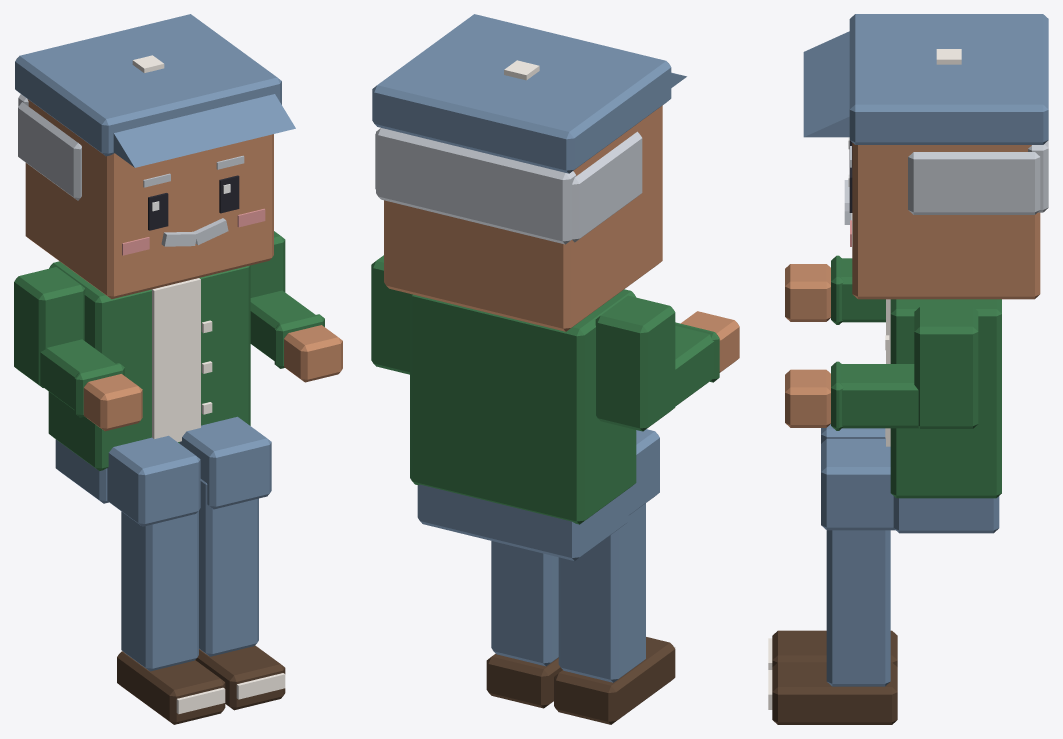
Rendered from CatCafe_NPC_Customer_K_Sit.glb.
The picture shows the model from 3 angles, left to right: view 1: azimuth 30°, elevation 25°; view 2: azimuth 150°, elevation 25°; view 3: azimuth 270°, elevation 25°; orthographic projection. The views are drawn at different scales.
Parts seen in each view (by area): view 1: CatCafe_NPC_Customer_K_Sit; view 2: CatCafe_NPC_Customer_K_Sit; view 3: CatCafe_NPC_Customer_K_Sit.
Boxes of the visible parts, <box> form: CatCafe_NPC_Customer_K_Sit: <box>14,14,342,724</box>; CatCafe_NPC_Customer_K_Sit: <box>371,14,739,724</box>; CatCafe_NPC_Customer_K_Sit: <box>768,14,1048,724</box>.
Size of the model in its own units: 2.24 by 5.09 by 2.01.
Materials: 1 (1 with a texture image).
